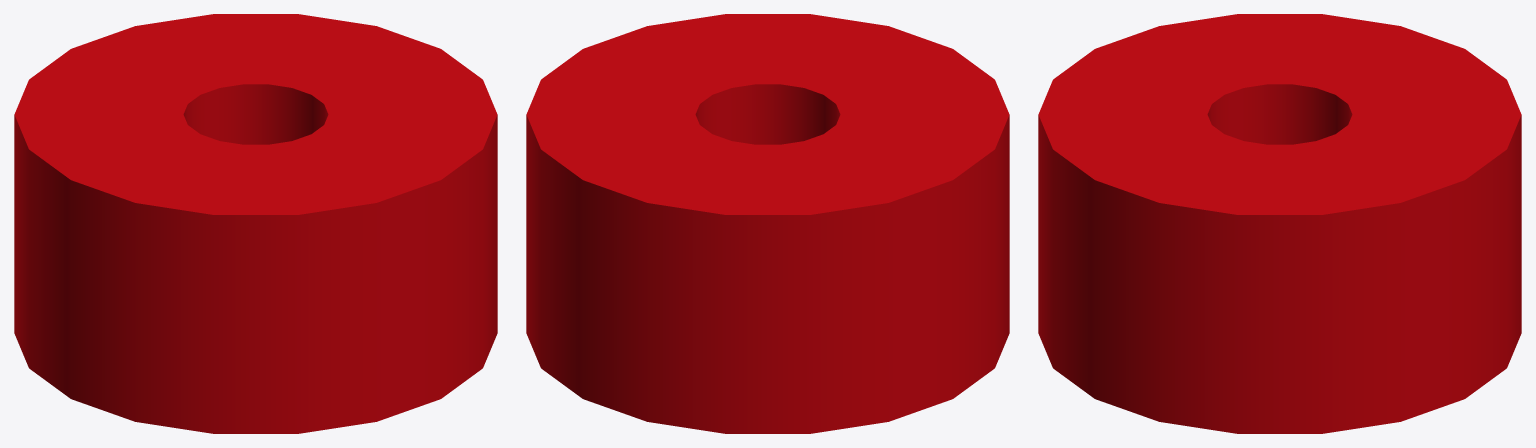
Rendered from pion merah.FBX.
3 renders of one model, left to right at view 1: azimuth 30°, elevation 25°; view 2: azimuth 150°, elevation 25°; view 3: azimuth 270°, elevation 25°, orthographic.
Visible parts, largest first — view 1: Tube01; view 2: Tube01; view 3: Tube01.
Part boxes in pixels (x1,y1,x2,y2): Tube01: [14, 14, 497, 433]; Tube01: [526, 14, 1009, 433]; Tube01: [1038, 14, 1521, 433].
Size of the model in its own units: 9.85 by 5 by 10.
